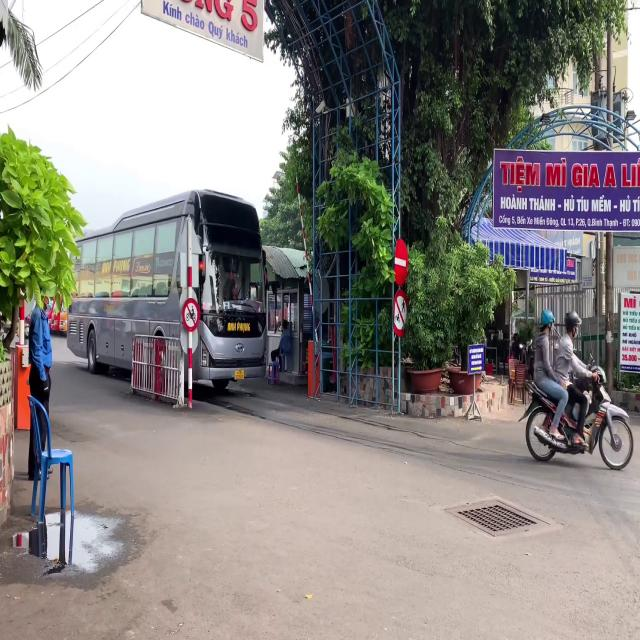bien_vang: (234, 369, 246, 381)
